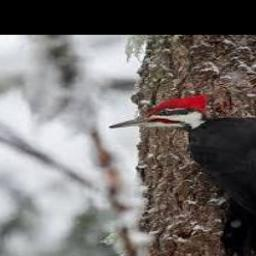Woodpecker: (109, 94, 256, 256)
